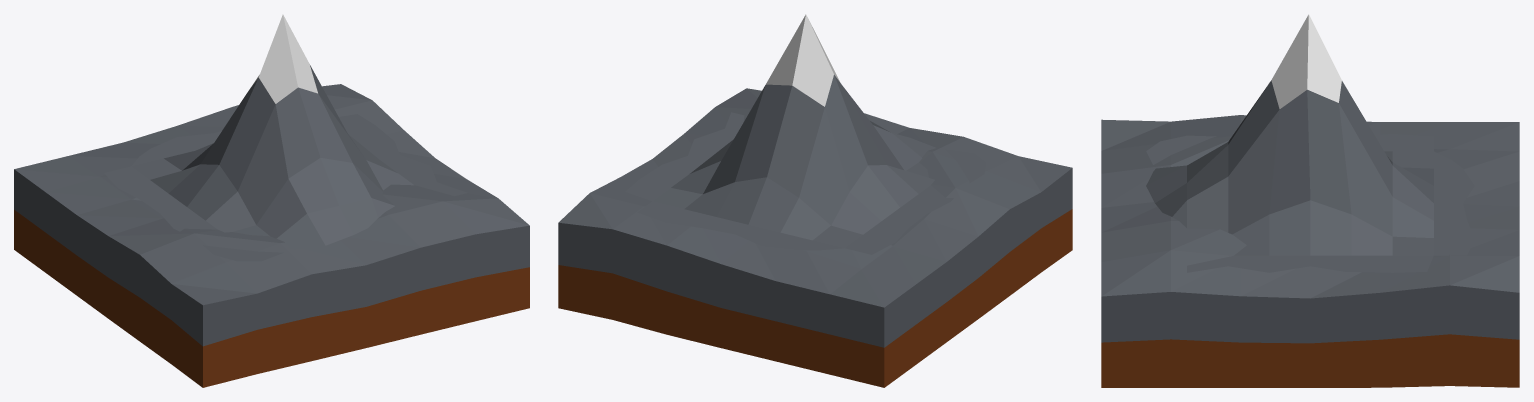
The model's file is Test_tile3.fbx.
The picture shows the model from 3 angles, left to right: view 1: azimuth 30°, elevation 25°; view 2: azimuth 150°, elevation 25°; view 3: azimuth 270°, elevation 25°; orthographic projection. The views are drawn at different scales.
Parts seen in each view (by area): view 1: montagne; view 2: montagne; view 3: montagne.
Part boxes in pixels (x1,y1,x2,y2): montagne: [14, 14, 529, 387]; montagne: [558, 14, 1072, 387]; montagne: [1101, 14, 1519, 387].
Size of the model in its own units: 10 by 7.69 by 10.
